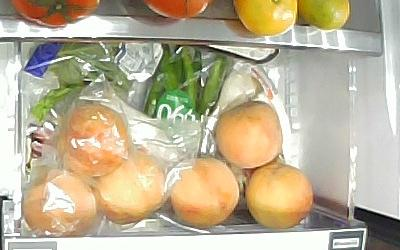peach: (213, 100, 285, 171), (168, 157, 239, 228), (244, 162, 315, 228)
peach_vinyl: (93, 151, 166, 224), (24, 167, 95, 236), (61, 104, 126, 177)
